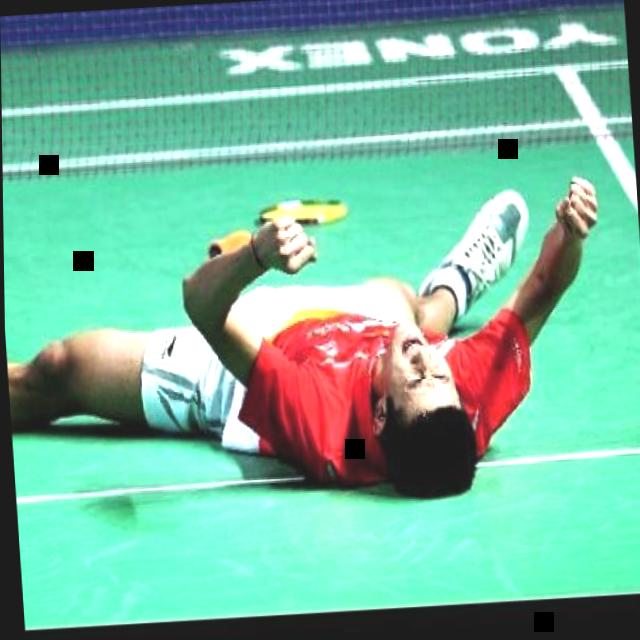Fall-Detected: (2, 142, 631, 516)
